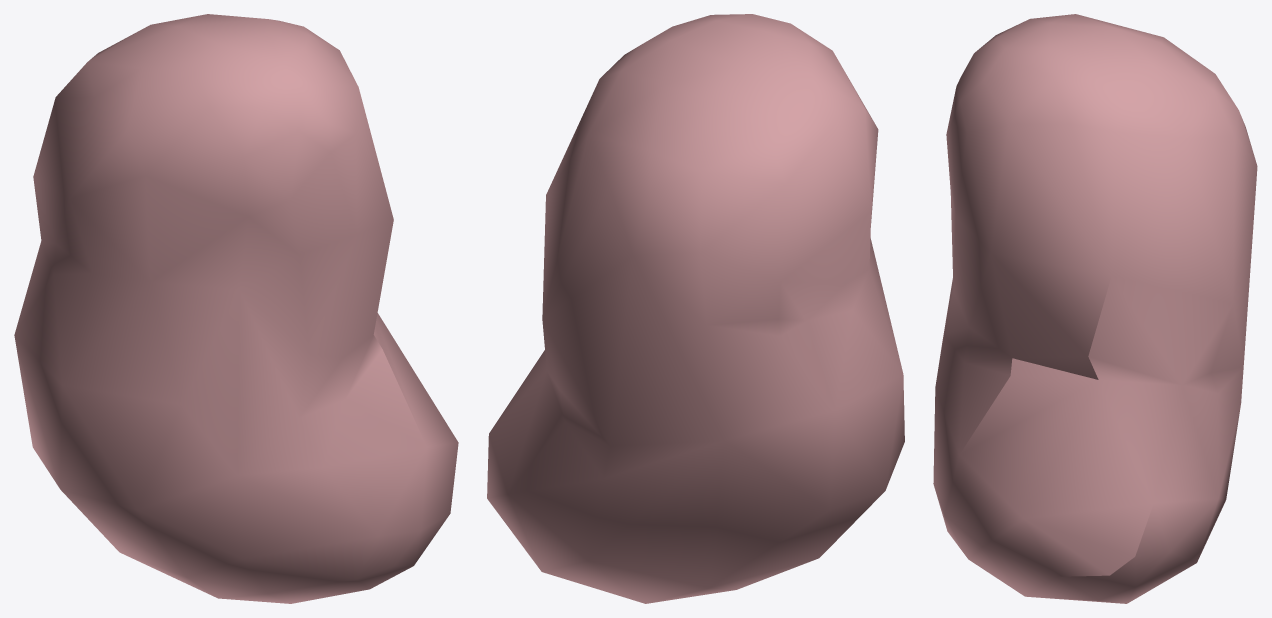
File: fma14965_fj2582.glb
The picture shows the model from 3 angles, left to right: view 1: azimuth 30°, elevation 25°; view 2: azimuth 150°, elevation 25°; view 3: azimuth 270°, elevation 25°; orthographic projection. The views are drawn at different scales.
Parts seen in each view (by area): view 1: FMA14965_FJ2582; view 2: FMA14965_FJ2582; view 3: FMA14965_FJ2582.
Part boxes in pixels (x1,y1,x2,y2): FMA14965_FJ2582: (14, 14, 458, 603); FMA14965_FJ2582: (487, 14, 904, 603); FMA14965_FJ2582: (933, 14, 1257, 603).
Size of the model in its own units: 0.0275 by 0.0391 by 0.0224.
